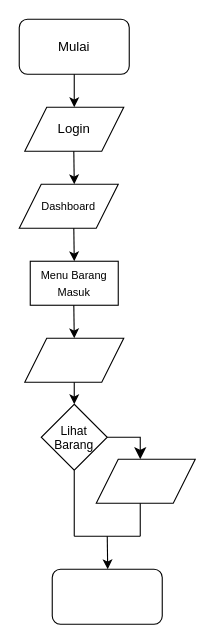
Some shapes in this 215 by 644 pixel diagram are drawn without their labels. The shapes that lost their labels are listed below. From the top down, each one's centre as x and y in pixels, then its label:
At (x=74, y=359): "Input Surat Masuk".
At (x=145, y=480): "Input Barang Masuk".
At (x=106, y=596): "Selesai".
